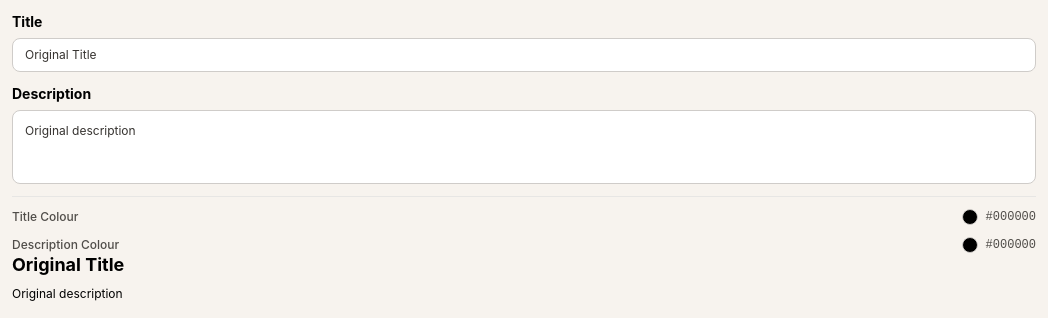
Test: editor matches preview › typing a new description in the panel updates the live preview
Replace the text in the text box with placeholder "Enter a description" with "New description" at (524, 147), box [12,110,1036,184]
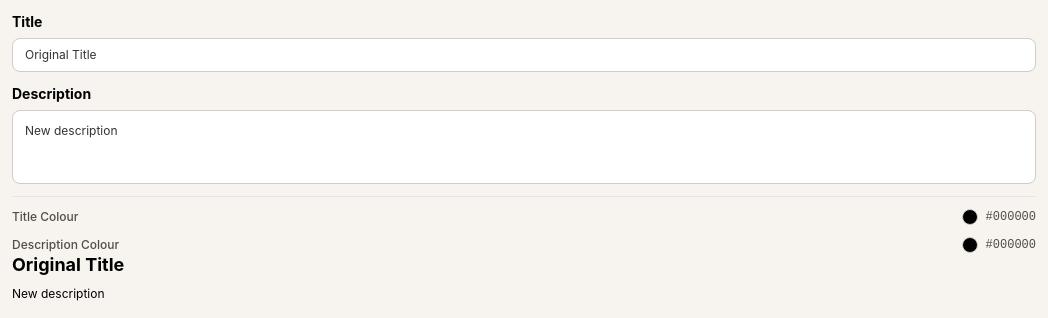
Expected: the text box "New description" is shown, [12,286,105,301]
